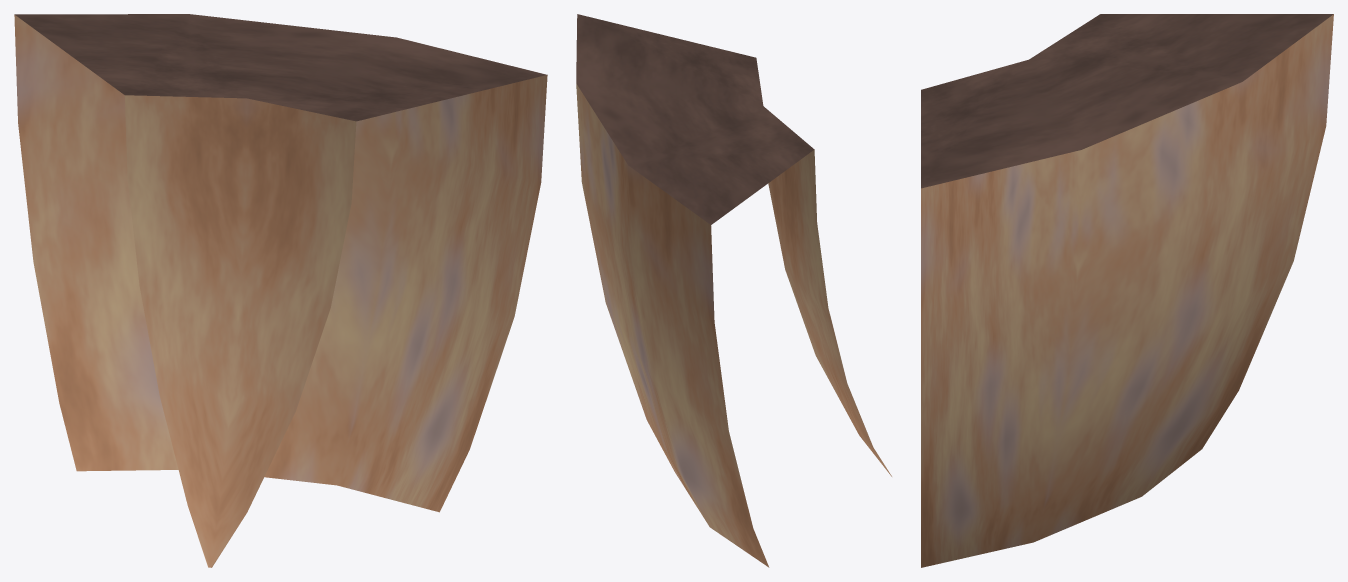
Rendered from FI_039_francos_building_wall_corner_short.glb.
3 renders of one model, left to right at view 1: azimuth 30°, elevation 25°; view 2: azimuth 150°, elevation 25°; view 3: azimuth 270°, elevation 25°, orthographic. The views are drawn at different scales.
Visible parts, largest first — view 1: wall_corner_short; view 2: wall_corner_short; view 3: wall_corner_short.
Boxes of the visible parts, x1=… form: wall_corner_short: x1=14, y1=14, x2=547, y2=567; wall_corner_short: x1=576, y1=14, x2=891, y2=567; wall_corner_short: x1=921, y1=14, x2=1333, y2=567.
Bounding box in the file's own units: 1.25 × 1.46 × 1.25.
Materials: 2 (2 with a texture image).
